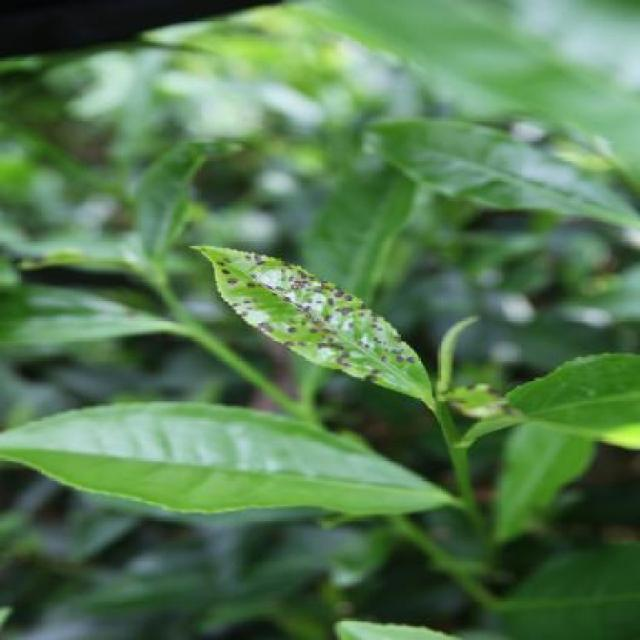Tea Mosquito bug infested leaf: (200, 245, 440, 408)
